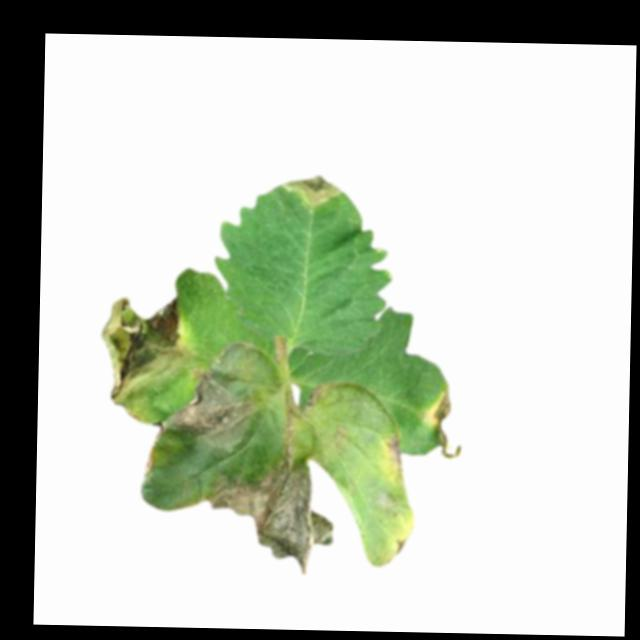Late_blight: (216, 452, 334, 577), (96, 293, 193, 422), (166, 341, 262, 451), (423, 389, 464, 459), (282, 173, 345, 203), (141, 425, 166, 477), (383, 432, 405, 471), (302, 384, 326, 417)
